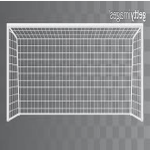goals: (4, 21, 145, 124)
